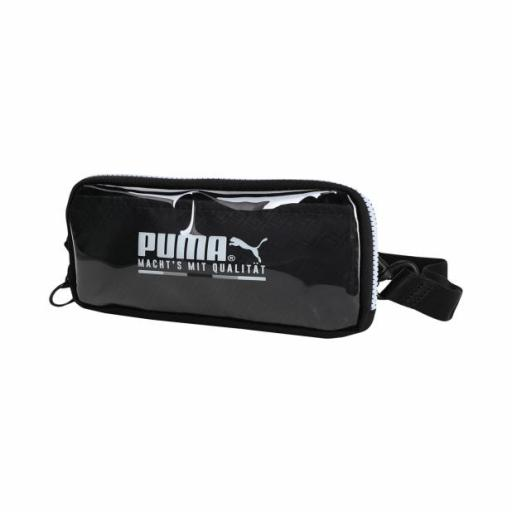Puma: (136, 228, 229, 265), (228, 234, 274, 264)
